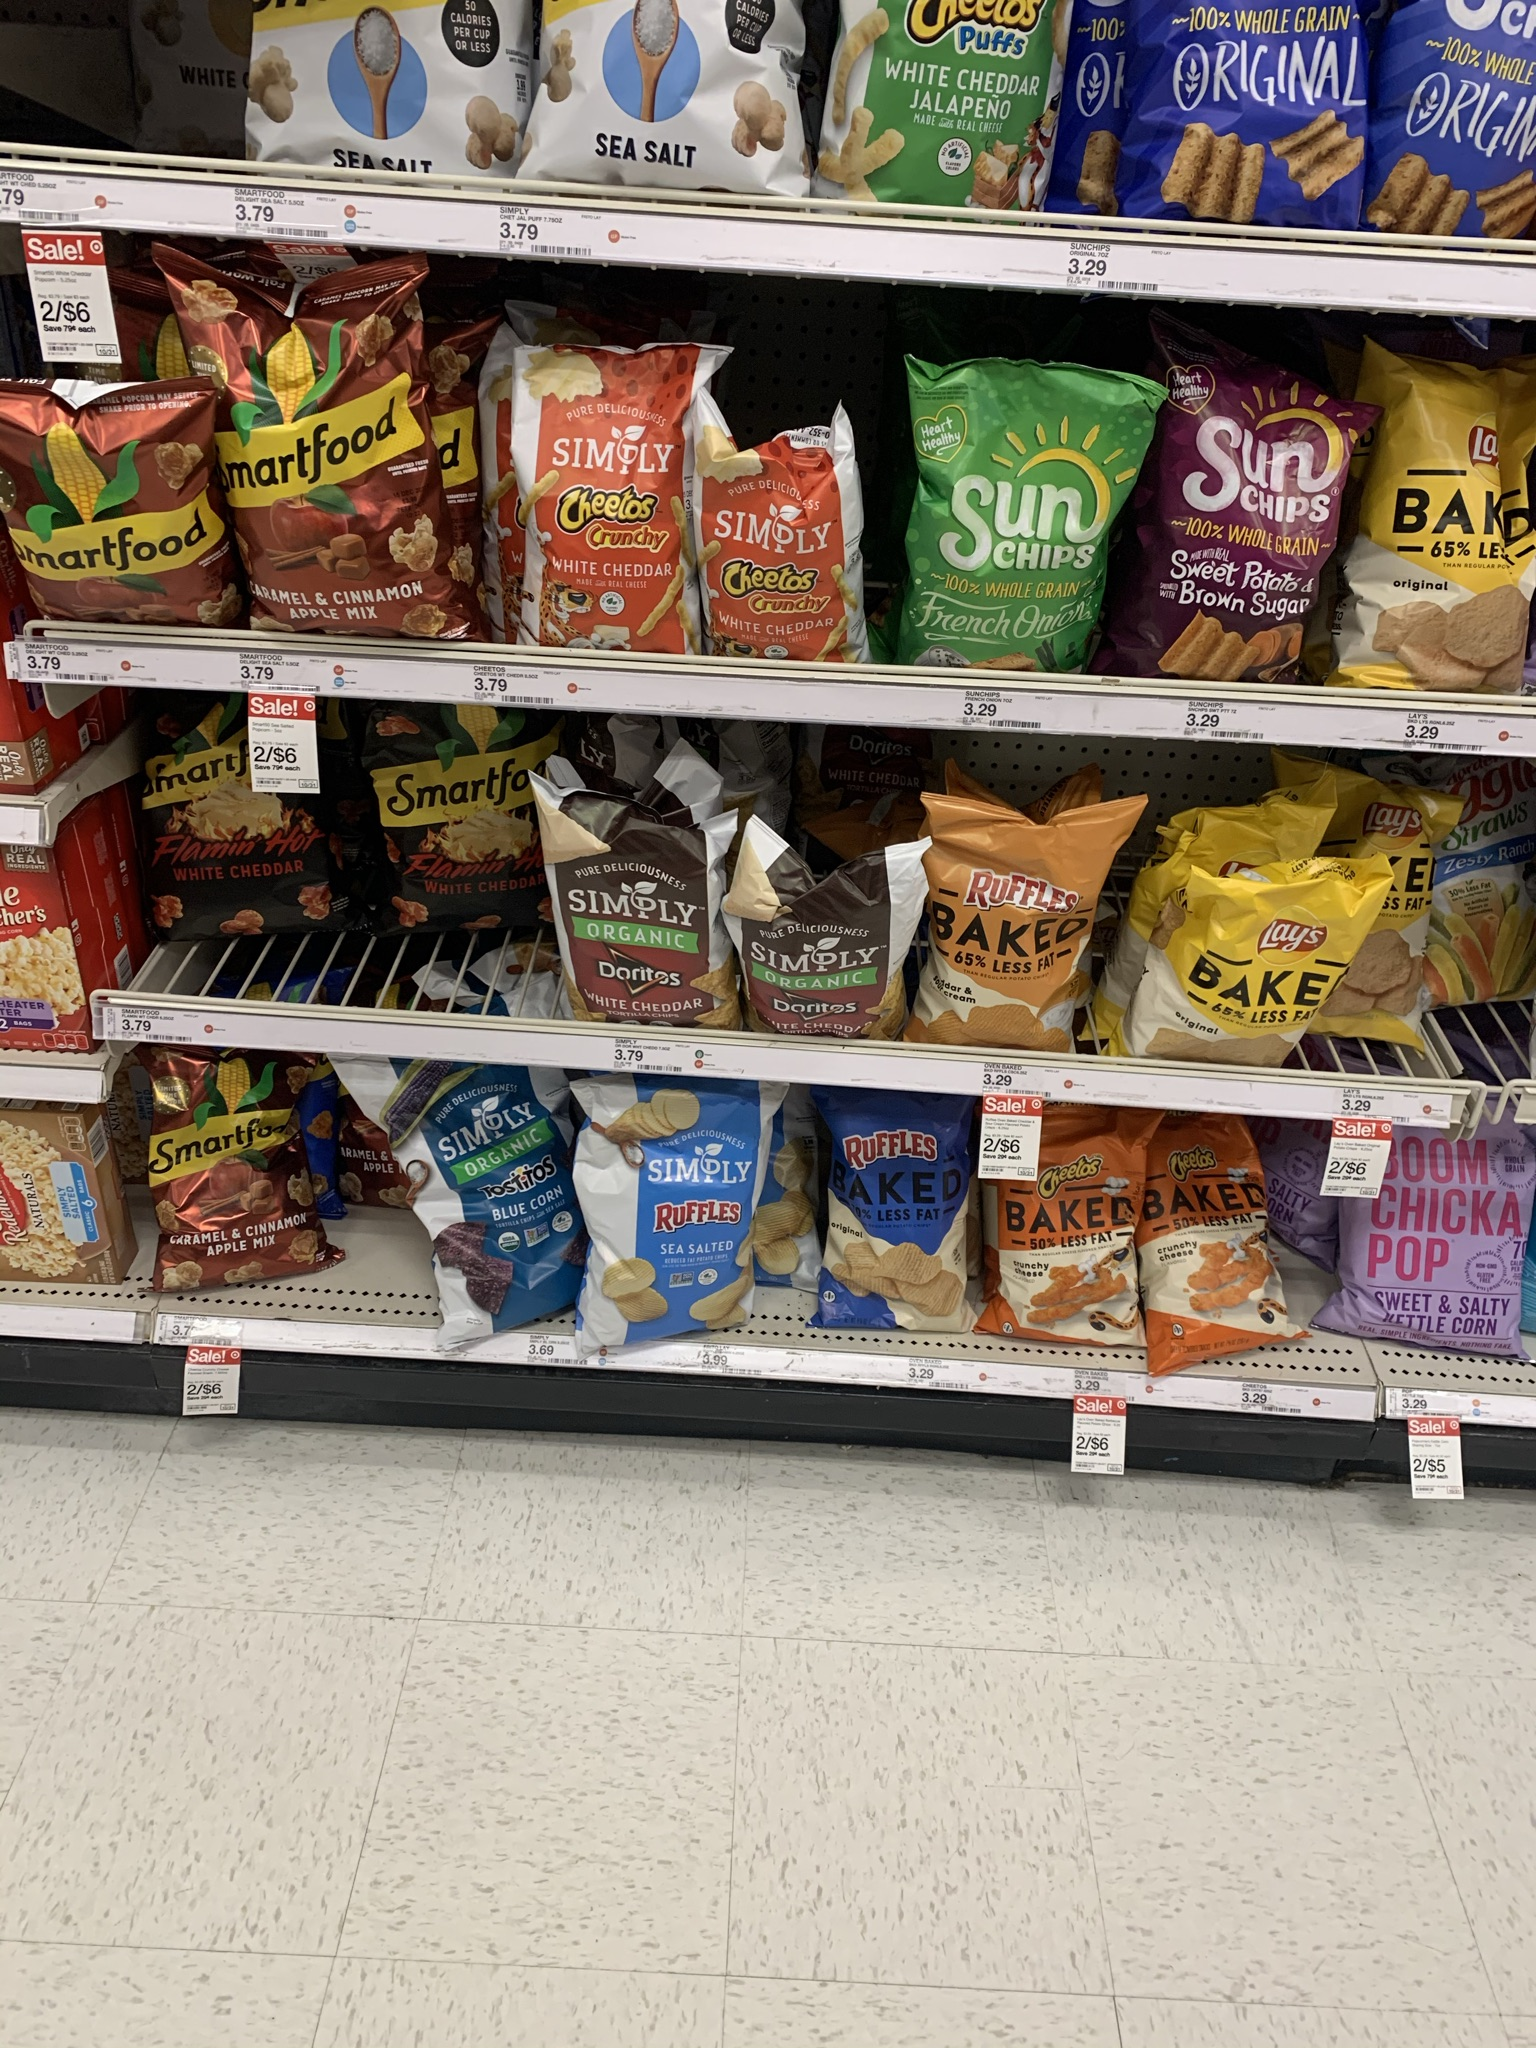cheetos: (529, 356, 692, 648), (1147, 1130, 1299, 1376), (703, 452, 871, 660), (1008, 1130, 1147, 1369)
chips smartfood: (182, 284, 452, 634), (2, 389, 203, 611)
dori: (739, 834, 912, 1035)
doritos: (566, 793, 715, 1021)
lays: (1388, 356, 1536, 698), (1207, 864, 1333, 1055)
ruffles: (608, 1097, 766, 1338), (828, 1111, 987, 1343), (939, 801, 1089, 1011)
smartfood: (152, 1066, 328, 1297), (153, 719, 342, 934), (357, 751, 520, 929)
sunchips: (908, 369, 1125, 676), (1175, 381, 1309, 640)
tostitos: (399, 1097, 589, 1311)
